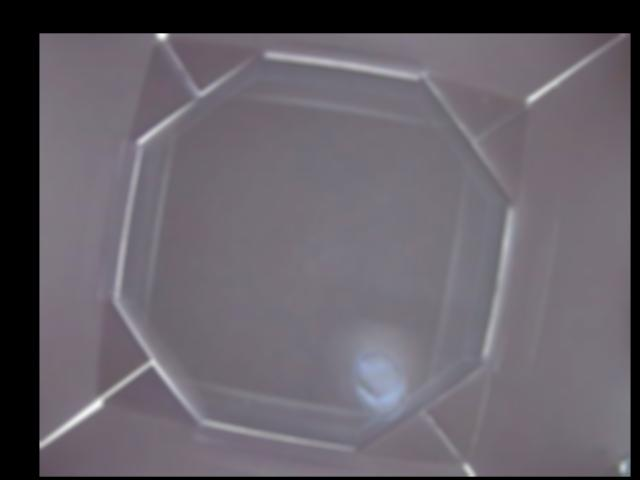Pebble: (357, 352, 407, 419)
